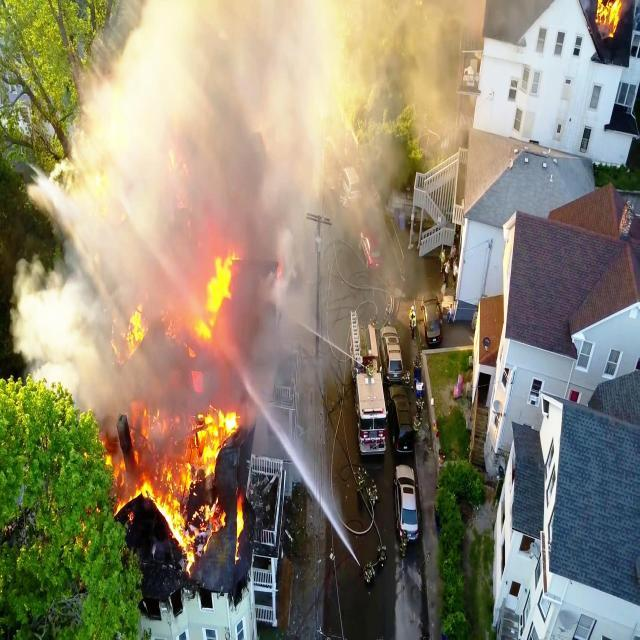Fire: (114, 393, 263, 573), (196, 244, 235, 350), (592, 1, 624, 40)
Smoke: (84, 2, 492, 214), (11, 204, 202, 401), (238, 218, 351, 408)
